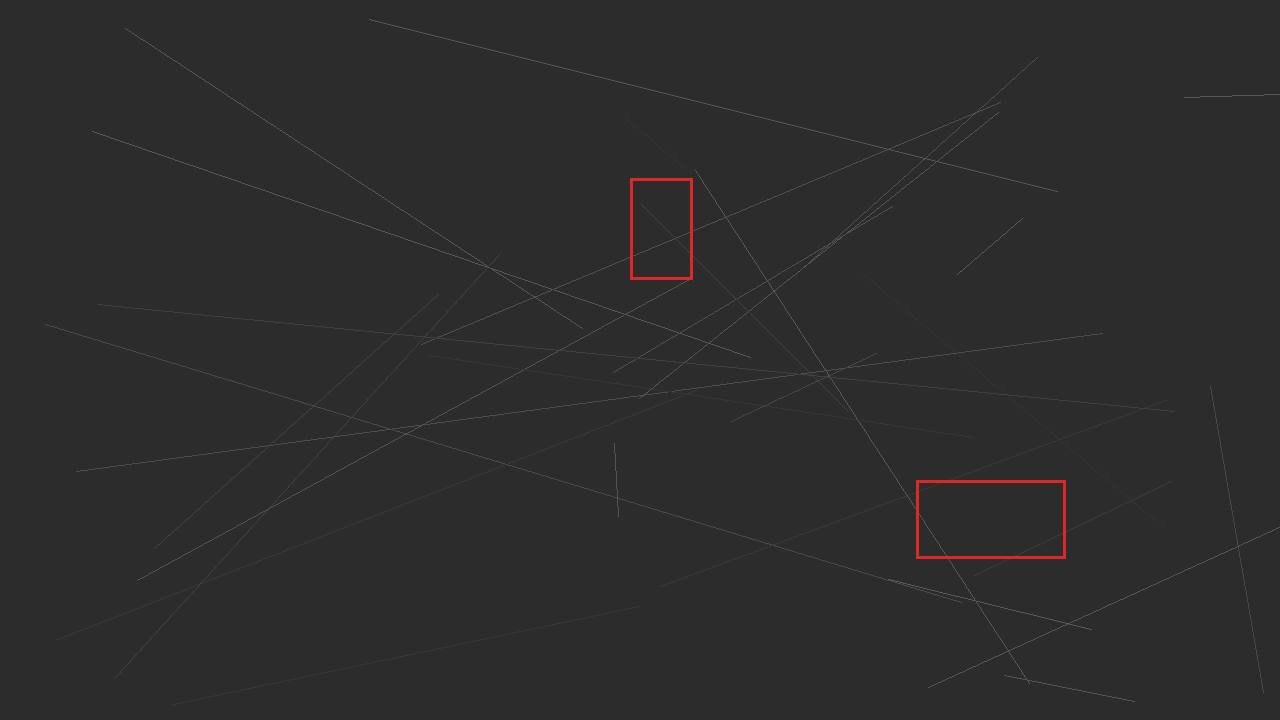D40: (916, 480, 1065, 558), (630, 178, 692, 279)
